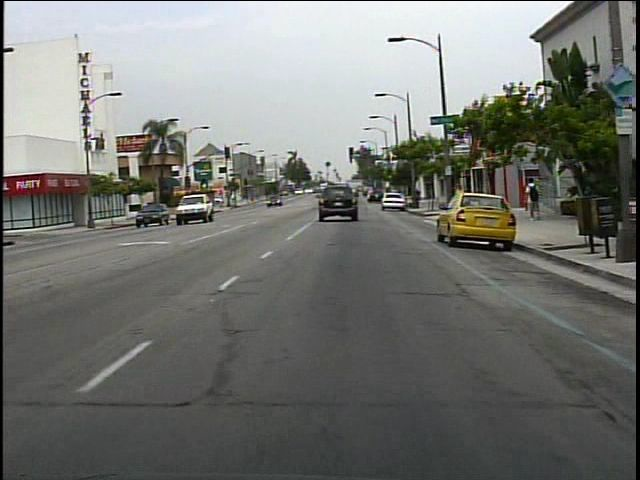person: (518, 172, 546, 225)
